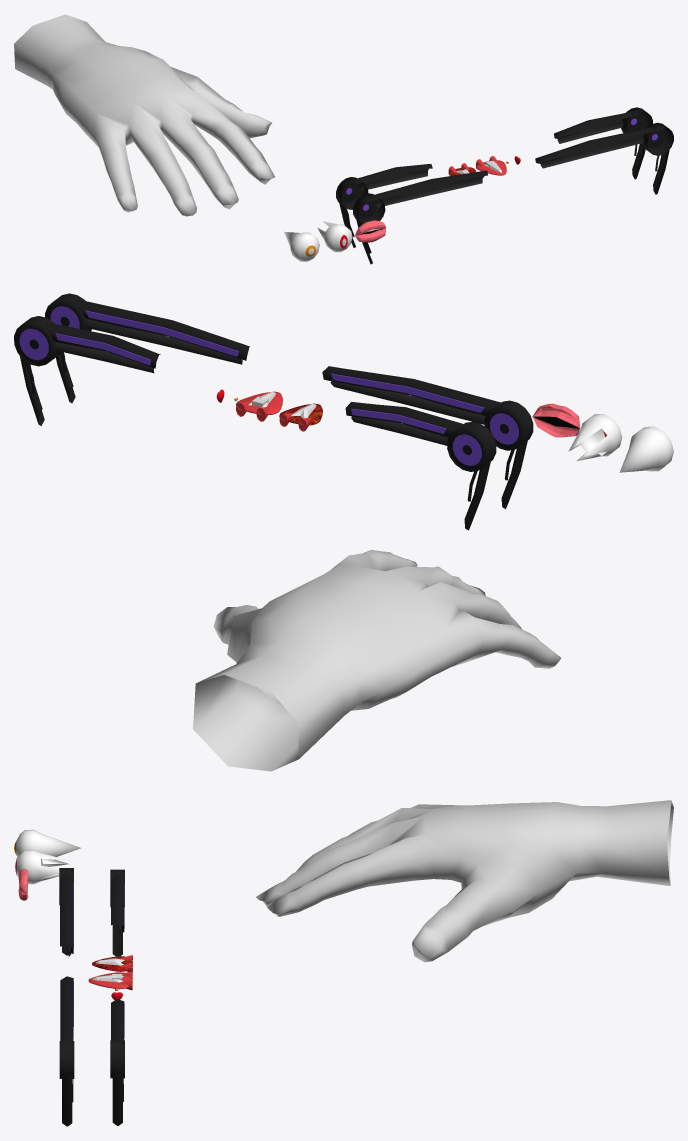
File: griff.fbx
3 views of the same model, one above another, from view 1: azimuth 30°, elevation 25°; view 2: azimuth 150°, elevation 25°; view 3: azimuth 270°, elevation 25° (orthographic). The views are drawn at different scales.
Visible parts, largest first — view 1: Boss_Hand, Capotraste_Longo_Esquerdo, Capotraste_Longo_Direito, Capotraste_Direito, Capotraste_Esquerdo, Olho_Flutuante, Olho_Pernas, Boca, Nave_Palheta_Definitiva; view 2: Boss_Hand, Capotraste_Longo_Direito, Capotraste_Longo_Esquerdo, Capotraste_Direito, Capotraste_Esquerdo, Olho_Flutuante, Olho_Pernas, Boca, Nave_Palheta_Definitiva, Nave_Palheta_Definitiva.001; view 3: Boss_Hand, Capotraste_Longo_Esquerdo, Capotraste_Esquerdo, Capotraste_Longo_Direito, Olho_Pernas, Capotraste_Direito, Olho_Flutuante, Nave_Palheta_Definitiva, Nave_Palheta_Definitiva.001.
Boxes of the visible parts, x1,y1,x2,y2 form: Boss_Hand: (14,14,274,216); Capotraste_Longo_Esquerdo: (535,122,673,194); Capotraste_Longo_Direito: (353,170,487,264); Capotraste_Direito: (336,164,432,247); Capotraste_Esquerdo: (554,107,652,179); Olho_Flutuante: (284,231,319,261); Olho_Pernas: (317,221,352,252); Boca: (355,220,385,242); Nave_Palheta_Definitiva: (476,156,506,175); Boss_Hand: (193,550,560,771); Capotraste_Longo_Direito: (322,366,533,509); Capotraste_Longo_Esquerdo: (45,293,249,403); Capotraste_Direito: (345,402,496,530); Capotraste_Esquerdo: (14,316,160,425); Olho_Flutuante: (619,426,673,472); Olho_Pernas: (568,414,622,461); Boca: (532,403,580,437); Nave_Palheta_Definitiva: (236,391,282,421); Nave_Palheta_Definitiva.001: (279,403,322,431); Boss_Hand: (256,800,673,962); Capotraste_Longo_Esquerdo: (59,976,74,1126); Capotraste_Esquerdo: (110,999,124,1125); Capotraste_Longo_Direito: (59,868,73,956); Olho_Pernas: (15,849,69,884); Capotraste_Direito: (110,869,124,956); Olho_Flutuante: (14,829,81,856); Nave_Palheta_Definitiva: (88,971,132,990); Nave_Palheta_Definitiva.001: (92,955,132,972).
Bounding box in the file's own units: 12.45 × 2.34 × 13.09.
